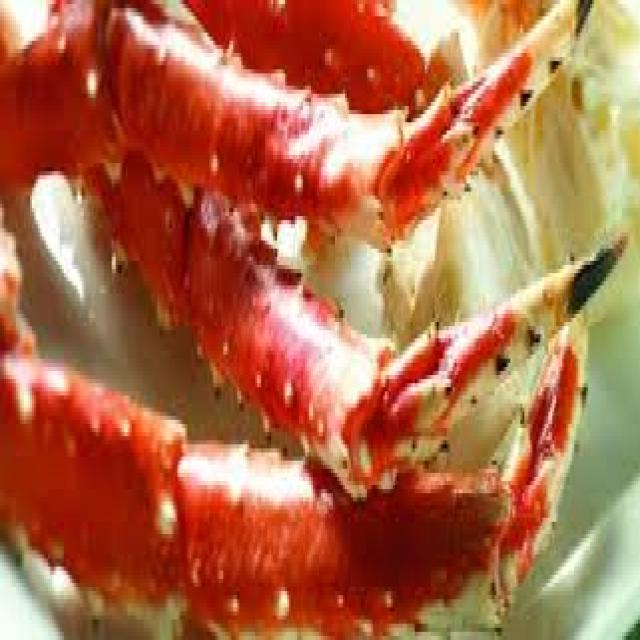crab: (0, 0, 513, 640)
